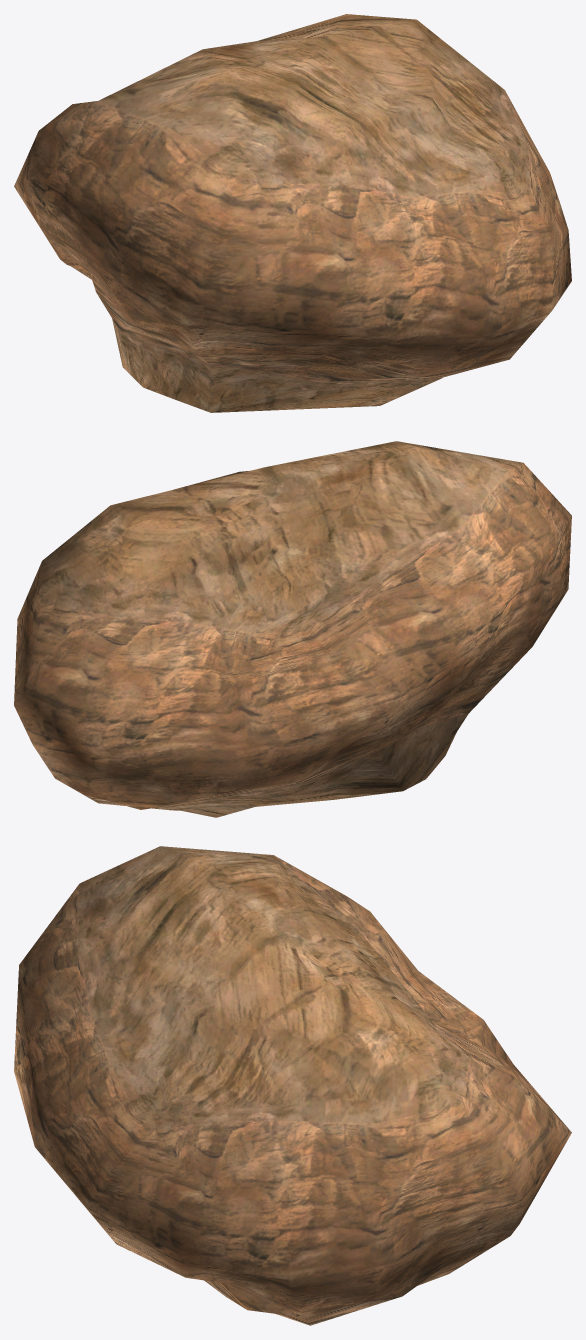
File: rock_tatt_bensmesa_boulder_a4_l0.fbx
3 renders of one model, top to bottom at view 1: azimuth 30°, elevation 25°; view 2: azimuth 150°, elevation 25°; view 3: azimuth 270°, elevation 25°, orthographic. The views are drawn at different scales.
Visible parts, largest first — view 1: mesh_node; view 2: mesh_node; view 3: mesh_node.
Part boxes in pixels (x1,y1,x2,y2): mesh_node: (14, 14, 571, 412); mesh_node: (14, 441, 571, 817); mesh_node: (14, 846, 571, 1325).
Bounding box in the file's own units: 4.26 × 3.18 × 4.42.
